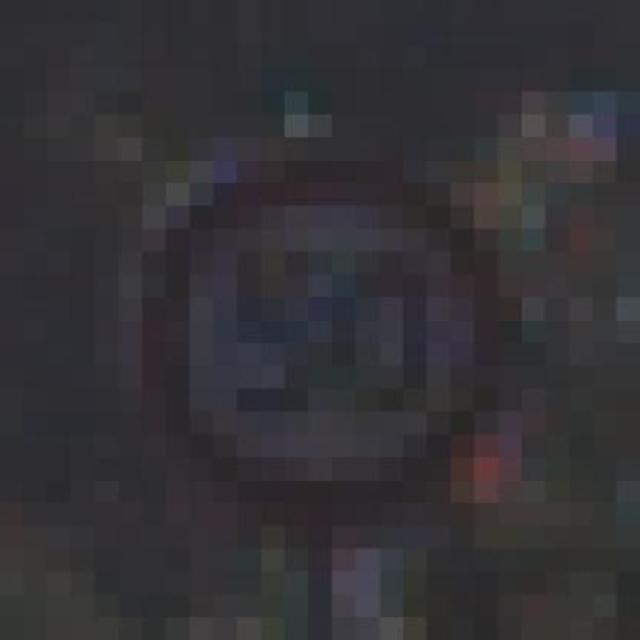50 mph speed limit: (95, 91, 522, 572)
